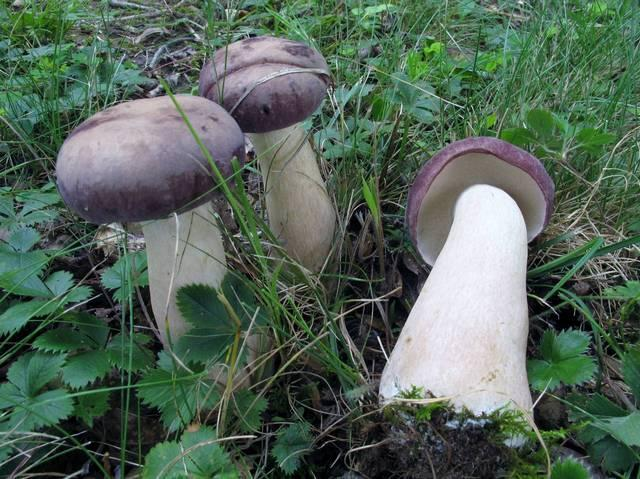Non-edible Mushroom: (376, 135, 555, 450), (54, 92, 247, 355), (197, 34, 338, 281)
